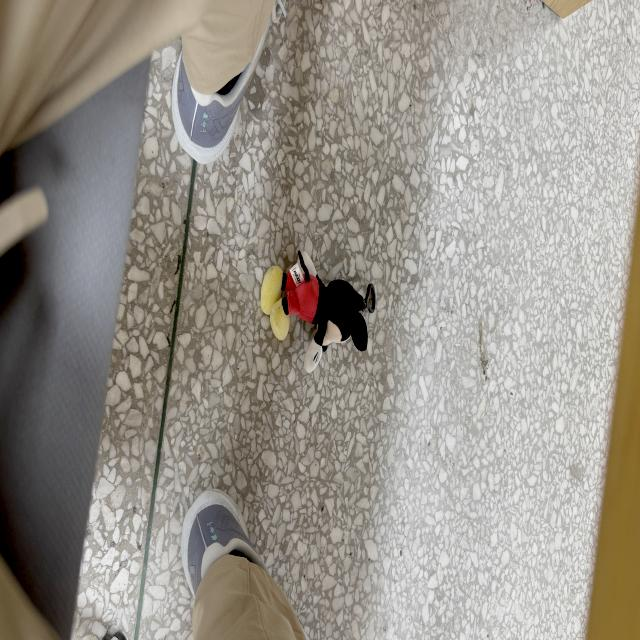mickey: (261, 252, 375, 372)
